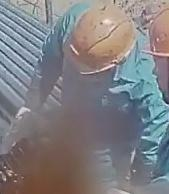gloves: (4, 98, 40, 145)
helmet: (62, 4, 136, 75), (141, 6, 169, 62)
vest: (43, 5, 144, 147)
